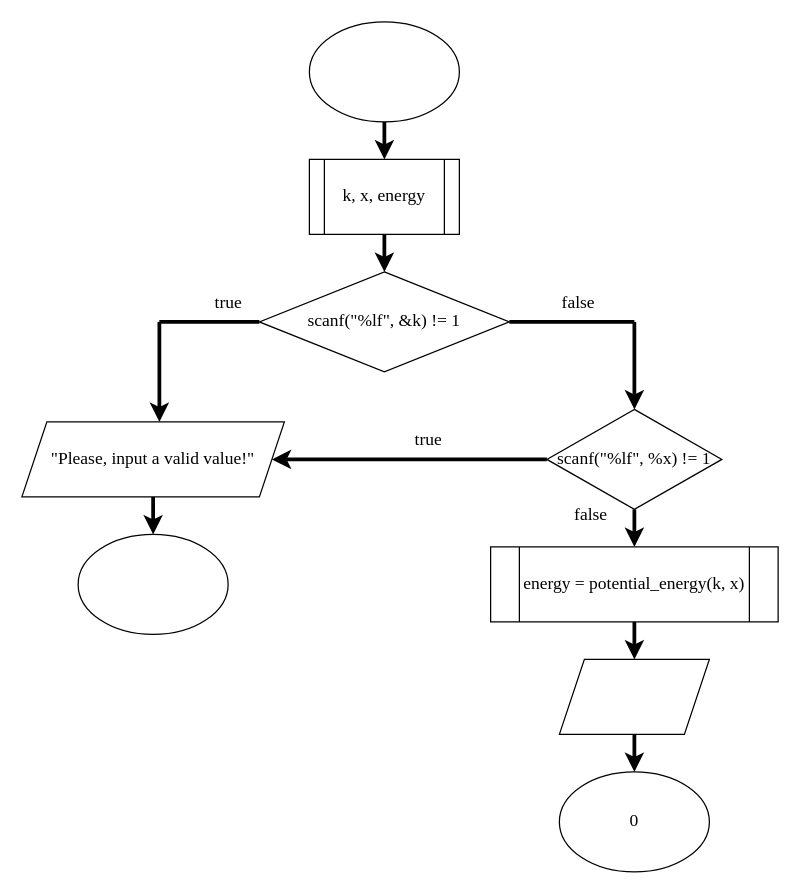
The diagram is 800 pixels wide and 894 high, and some of its shapes have lost their labels. The box of each missing label's shape, as (x1, y1, x2, y2) in pixels:
abort(): (77, 533, 228, 634)
energy: (558, 658, 709, 734)
Начало: (308, 21, 459, 122)
